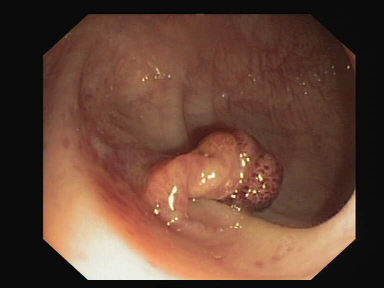polyp: (147, 111, 308, 230)
